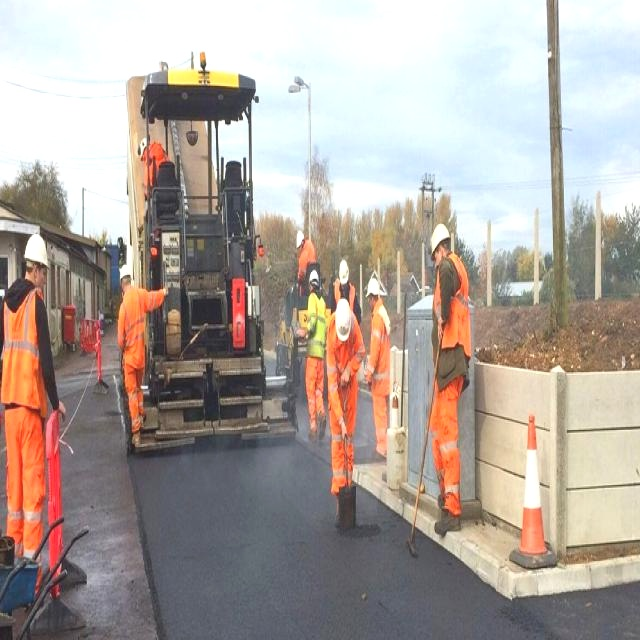Con_Casco: (22, 234, 51, 281), (428, 218, 451, 262), (333, 296, 351, 341)
Con_Chaleco: (0, 289, 44, 409), (434, 263, 469, 375), (364, 304, 391, 389), (118, 286, 145, 367), (307, 293, 327, 357)
